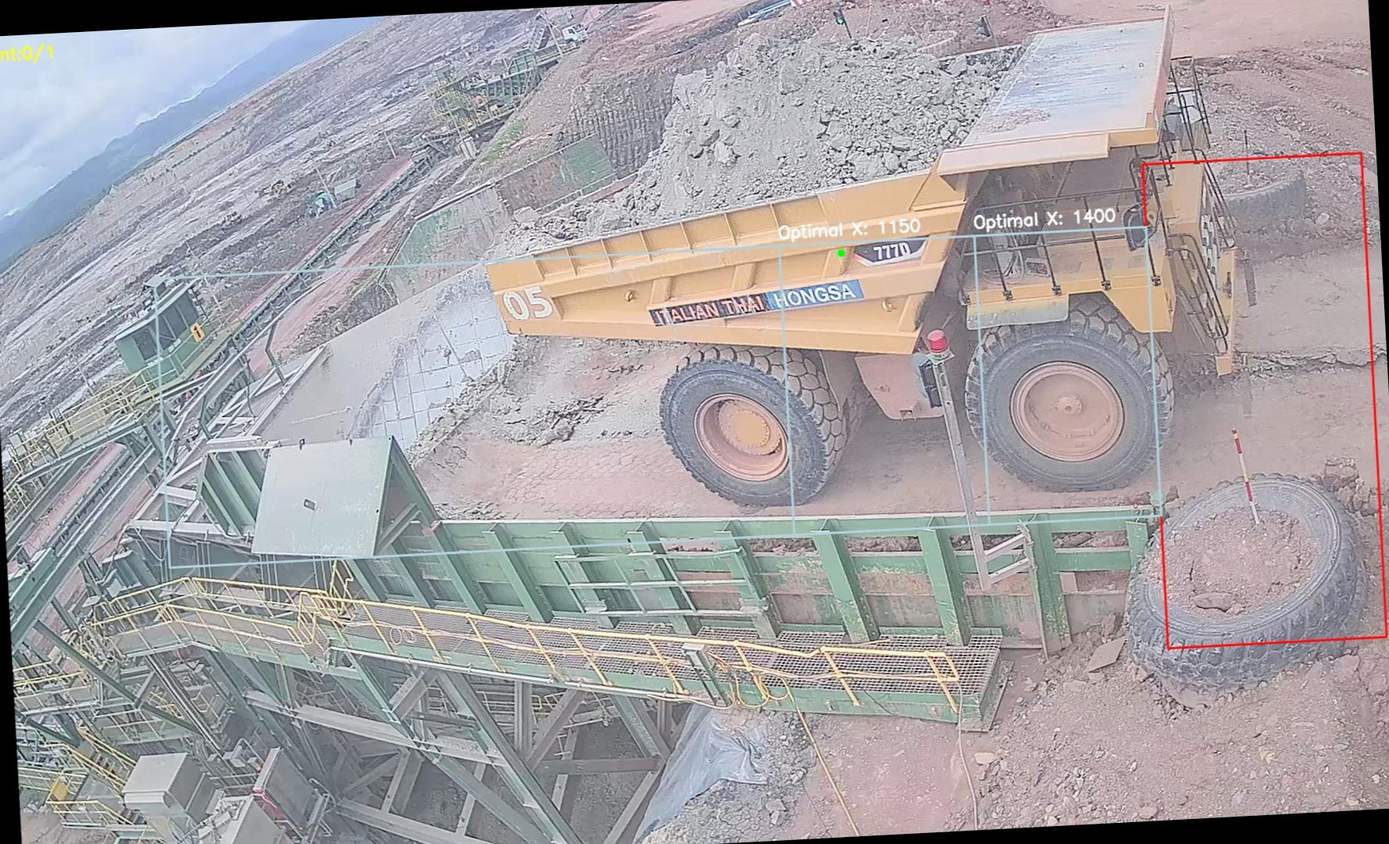company: (633, 277, 884, 328)
full_load: (683, 17, 947, 218)
mining_truck: (456, 0, 1272, 535)
tail_number: (490, 277, 563, 332)
truck_size: (838, 222, 927, 271)
